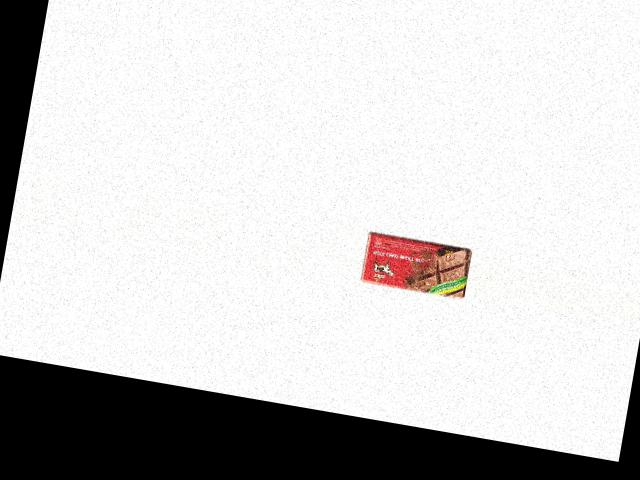chocolate: (357, 228, 473, 301)
